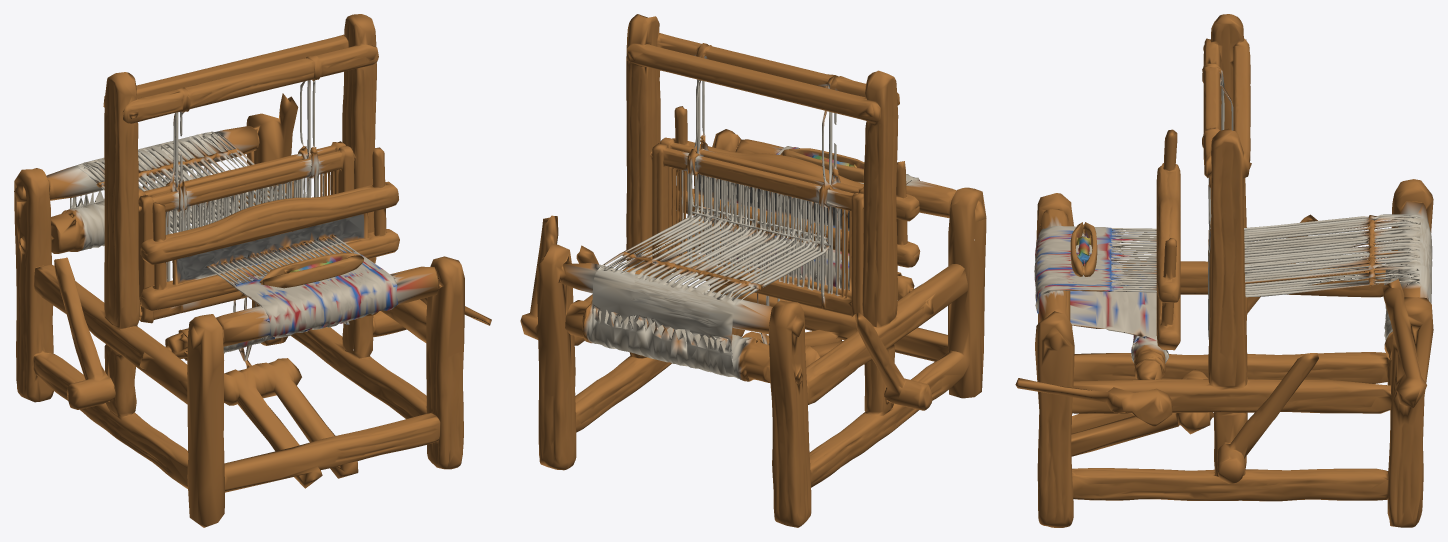
The model's file is khung-cui.76824b5f.glb.
3 renders of one model, left to right at view 1: azimuth 30°, elevation 25°; view 2: azimuth 150°, elevation 25°; view 3: azimuth 270°, elevation 25°, orthographic.
Parts seen in each view (by area): view 1: tripo_node_65f5dfc7-da5c-4f50-a6fa-3d497f3a0198; view 2: tripo_node_65f5dfc7-da5c-4f50-a6fa-3d497f3a0198; view 3: tripo_node_65f5dfc7-da5c-4f50-a6fa-3d497f3a0198.
Boxes of the visible parts, left/top/right/bottom form: tripo_node_65f5dfc7-da5c-4f50-a6fa-3d497f3a0198: left=14, top=14, right=491, bottom=527; tripo_node_65f5dfc7-da5c-4f50-a6fa-3d497f3a0198: left=520, top=14, right=986, bottom=527; tripo_node_65f5dfc7-da5c-4f50-a6fa-3d497f3a0198: left=1015, top=14, right=1433, bottom=527.
Bounding box in the file's own units: 0.8845 × 0.979 × 0.9444.
